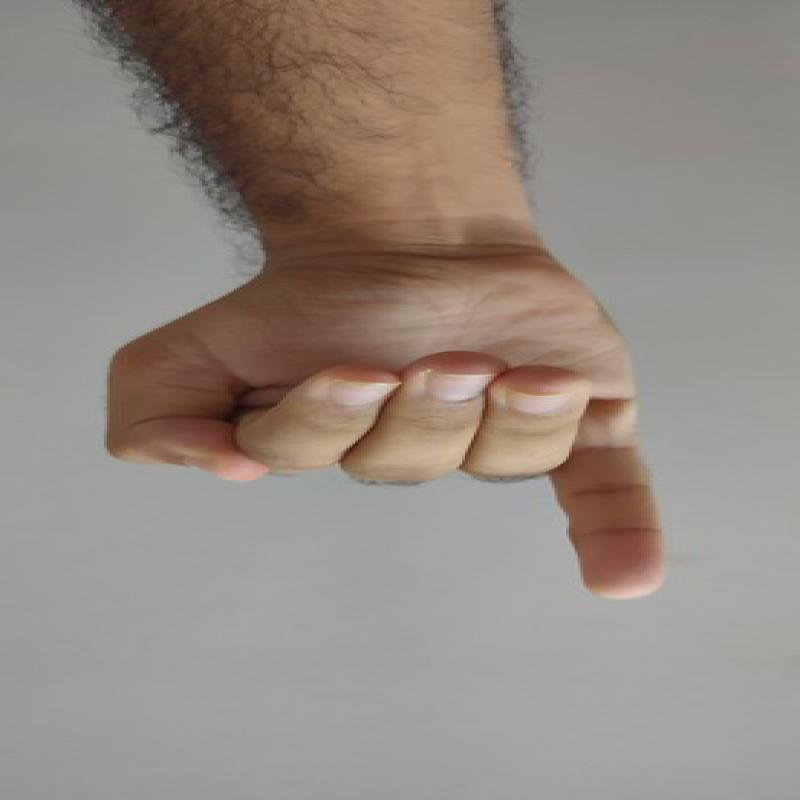Kartharee Mukham: (86, 226, 683, 615)
